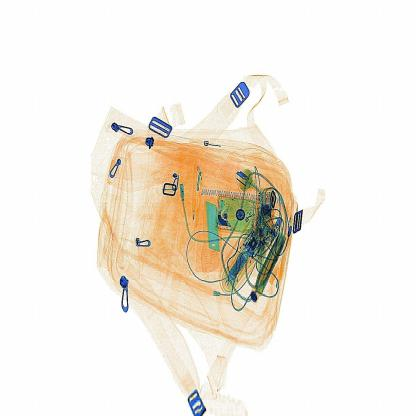pliers: (196, 192, 232, 284)
